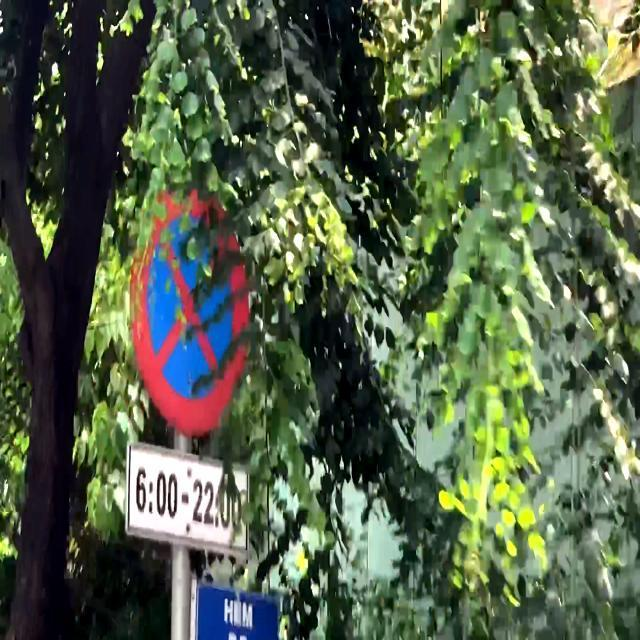130-cam-dung-va-do-xe: (130, 188, 250, 436)
